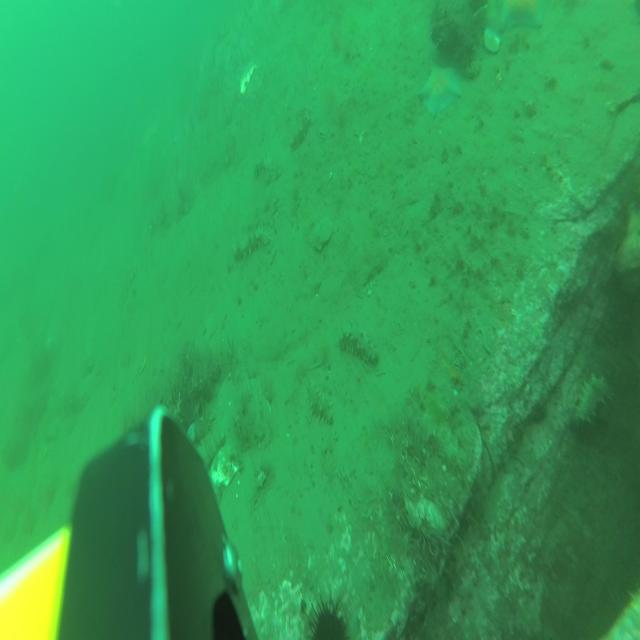echinus: (305, 592, 354, 640)
holothurian: (573, 375, 615, 432), (338, 325, 380, 367), (232, 228, 270, 264), (308, 383, 335, 425), (119, 262, 135, 310), (292, 110, 310, 146), (254, 154, 274, 185)
scallop: (211, 443, 239, 488), (245, 397, 271, 443), (234, 379, 260, 422), (308, 216, 332, 251), (484, 27, 501, 52)
starfish: (419, 63, 461, 119), (488, 0, 542, 35)
